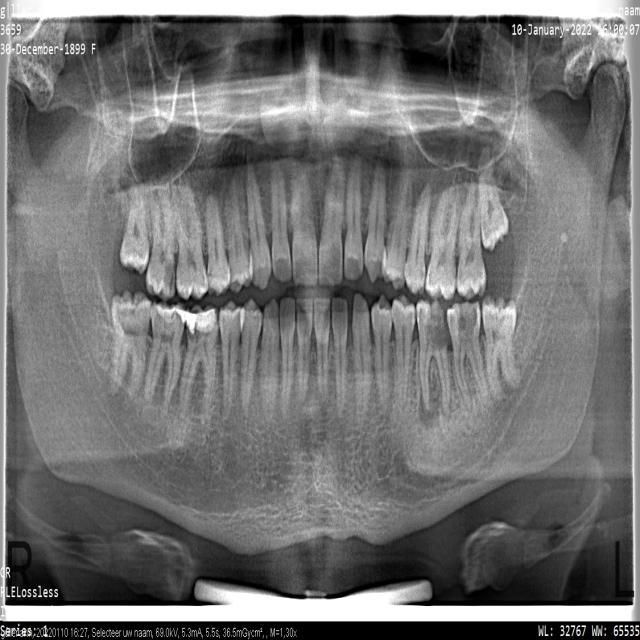Canine: (247, 164, 272, 289), (352, 294, 372, 440), (259, 299, 280, 422), (364, 167, 386, 284)
Incisores: (319, 155, 344, 286), (292, 163, 318, 286), (271, 162, 292, 283), (344, 157, 363, 281), (332, 297, 348, 417), (280, 297, 295, 422), (296, 298, 313, 408), (314, 297, 330, 405)
Premolars: (383, 181, 411, 290), (405, 182, 431, 296), (391, 295, 416, 413), (219, 301, 242, 421), (227, 183, 251, 294), (241, 298, 263, 418), (372, 294, 393, 418), (207, 194, 230, 297)
molars: (446, 301, 489, 413), (179, 305, 219, 420), (145, 302, 185, 415), (112, 290, 152, 402), (416, 299, 451, 420), (425, 189, 461, 301), (482, 296, 520, 402), (457, 188, 487, 300), (176, 201, 208, 300), (479, 147, 509, 252), (146, 198, 175, 301), (120, 186, 149, 273)
